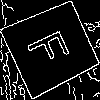F: (25, 23, 79, 71)
